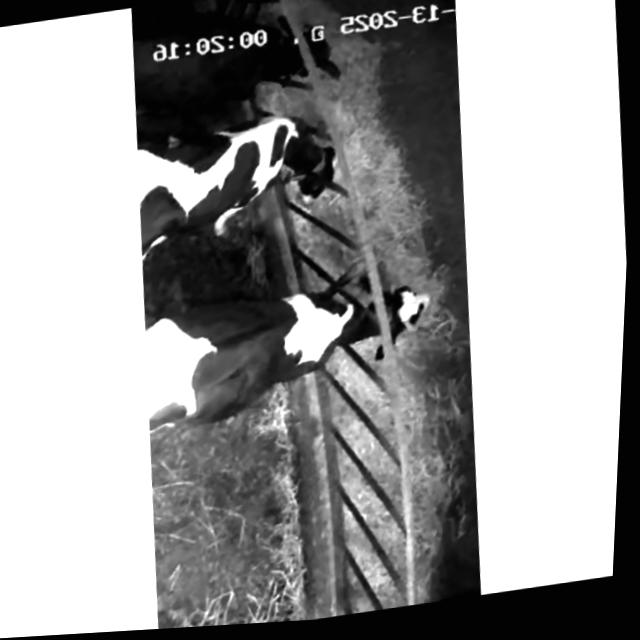eat: (185, 85, 409, 234), (289, 232, 472, 392), (170, 0, 382, 109)
